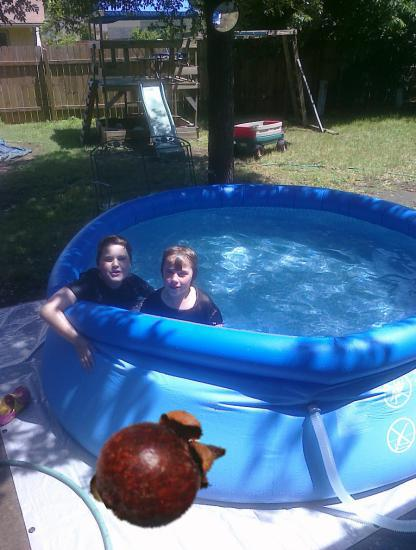Mangostan: (94, 401, 228, 535)
Peach: (87, 438, 168, 519)
